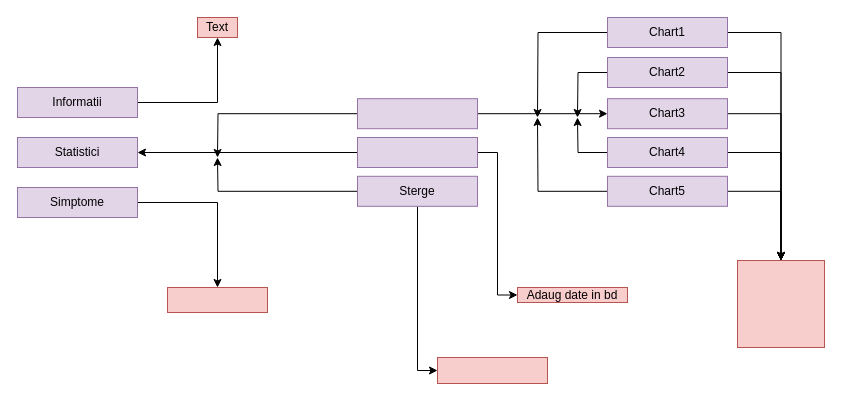
Image size: 842x401. Some labels were removed from this diagram. The shapes that lost their labels are listed below. From the top down, each one's box as (x1, y1, x2, y2) in pixels, then its label:
(356, 98, 478, 129): Vizualizeaza
(356, 136, 478, 168): Insereaza
(166, 286, 268, 312): Checkboxuri
(736, 260, 824, 348): Afisare Chart
(436, 356, 548, 384): TBA
